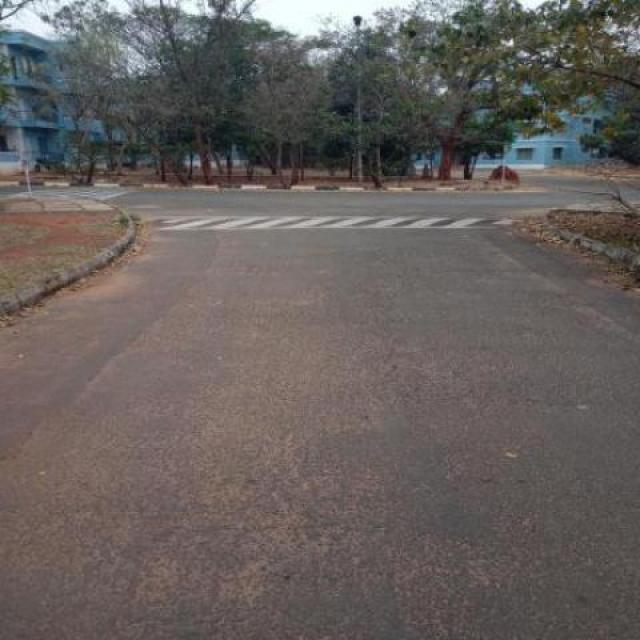Speed Bump: (143, 218, 526, 230)
